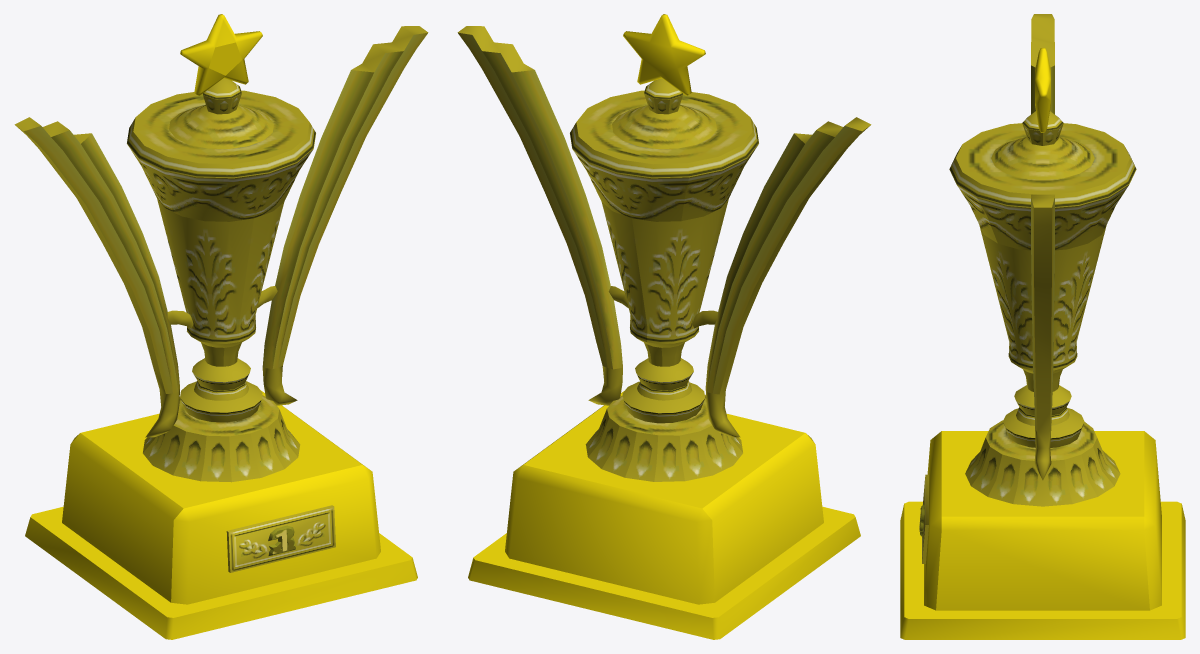
Rendered from mex.glb.
3 views of the same model, side by side, from view 1: azimuth 30°, elevation 25°; view 2: azimuth 150°, elevation 25°; view 3: azimuth 270°, elevation 25° (orthographic). The views are drawn at different scales.
Parts seen in each view (by area): view 1: n1b1; view 2: n1b1; view 3: n1b1.
Part boxes in pixels (<box>): n1b1: <box>14,14,428,639</box>; n1b1: <box>457,14,871,639</box>; n1b1: <box>900,14,1185,639</box>.
Size of the model in its own units: 7.63 by 9.75 by 4.75.
2 materials, 2 textured.
